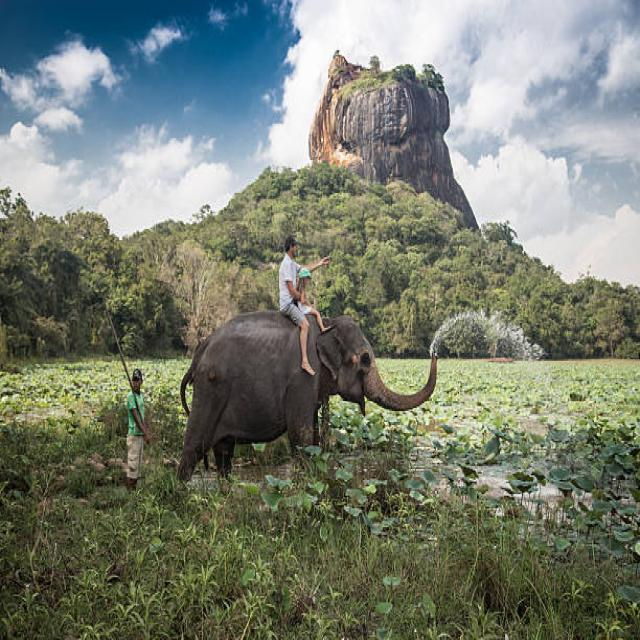Elephant: (182, 306, 434, 460)
